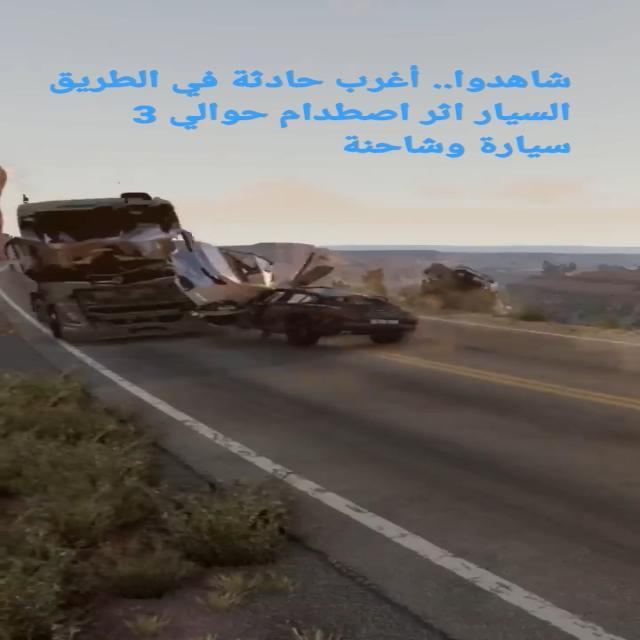accident: (0, 183, 427, 342)
